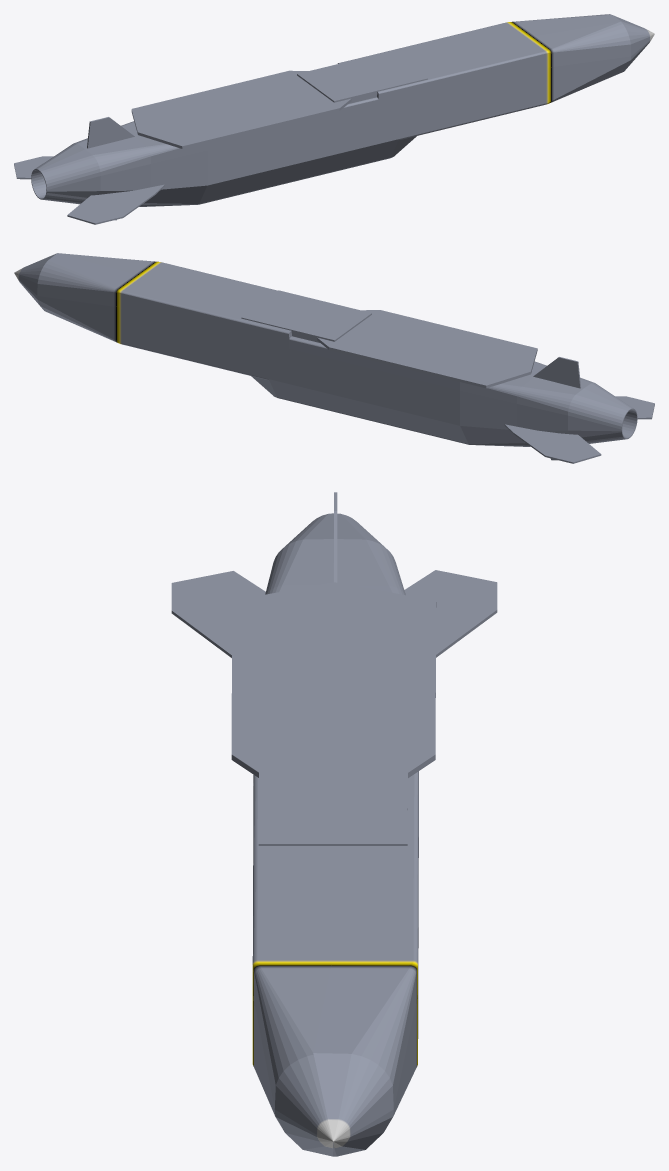
The model's file is m20dscalpeg1.glb.
3 views of the same model, one above another, from view 1: azimuth 30°, elevation 25°; view 2: azimuth 150°, elevation 25°; view 3: azimuth 270°, elevation 25° (orthographic). The views are drawn at different scales.
Parts seen in each view (by area): view 1: 円柱.006; view 2: 円柱.006; view 3: 円柱.006.
Boxes of the visible parts, x1,y1,x2,y2 form: 円柱.006: (14,14,654,224); 円柱.006: (14,253,654,463); 円柱.006: (171,492,497,1156).
Bounding box in the file's own units: 5.4 × 0.8756 × 1.24.
Materials: 7 (1 with a texture image).
